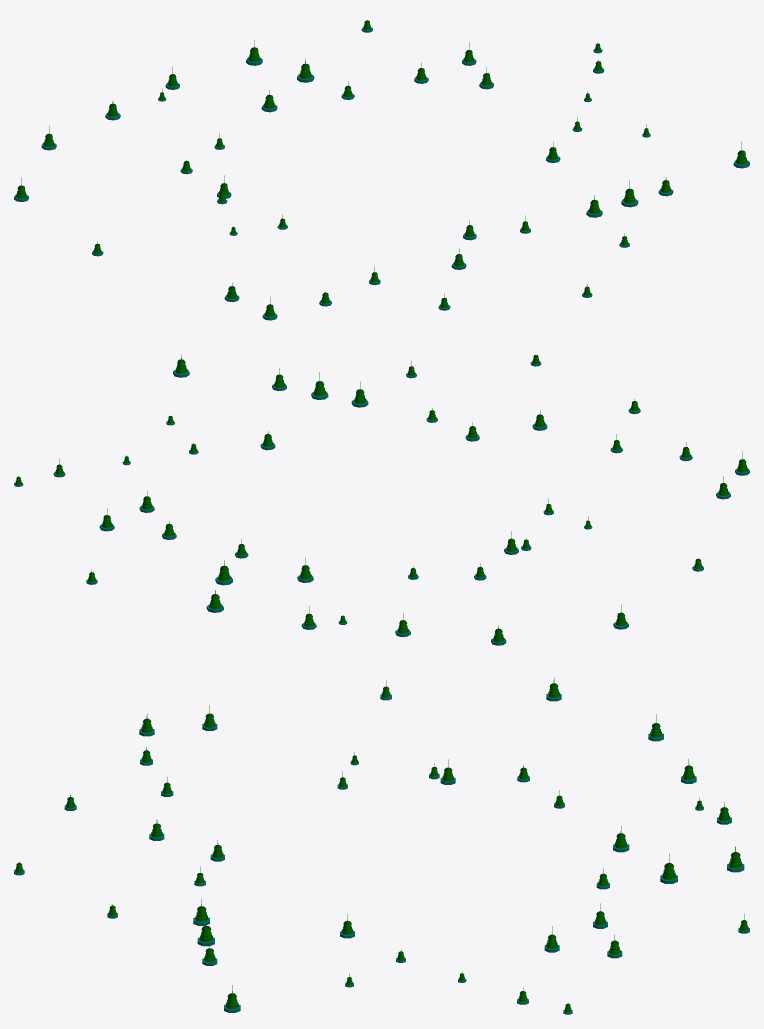
Rendered from ansedra_far_domes.glb.
3 views of the same model, one above another, from view 1: azimuth 30°, elevation 25°; view 2: azimuth 150°, elevation 25°; view 3: azimuth 270°, elevation 25° (orthographic). The views are drawn at different scales.
Parts seen in each view (by area): view 1: ansedra_far_domes; view 2: ansedra_far_domes; view 3: ansedra_far_domes.
Part boxes in pixels (box(x1,y1,x2,y2)): ansedra_far_domes: box(14, 20, 749, 320); ansedra_far_domes: box(14, 355, 749, 645); ansedra_far_domes: box(14, 678, 749, 1014).
Size of what is drawn, in the model's own units: 1306 by 51.99 by 1267.
